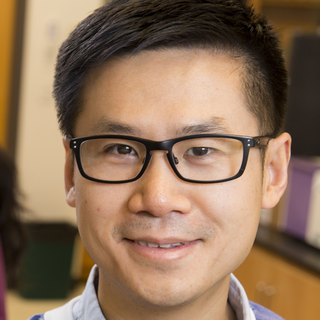eye: (181, 142, 227, 165), (101, 140, 144, 163)
